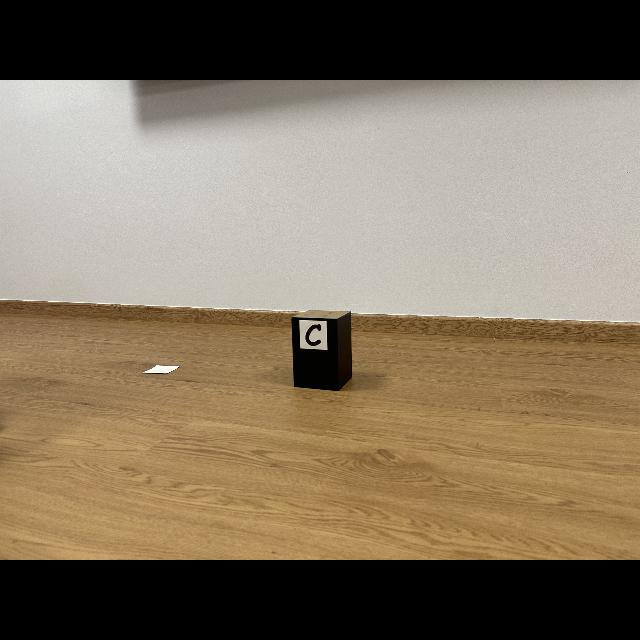C: (305, 324, 321, 346)
